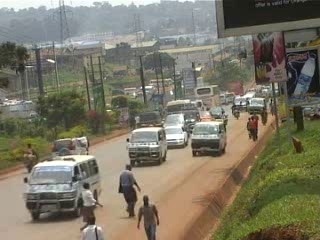Car: (49, 134, 90, 165), (161, 123, 188, 148), (178, 103, 203, 130), (163, 111, 188, 134), (198, 107, 216, 125), (210, 106, 230, 119)
Motorcycle: (19, 141, 40, 179), (73, 130, 92, 155), (230, 98, 242, 120), (219, 106, 228, 131), (229, 100, 239, 118)
